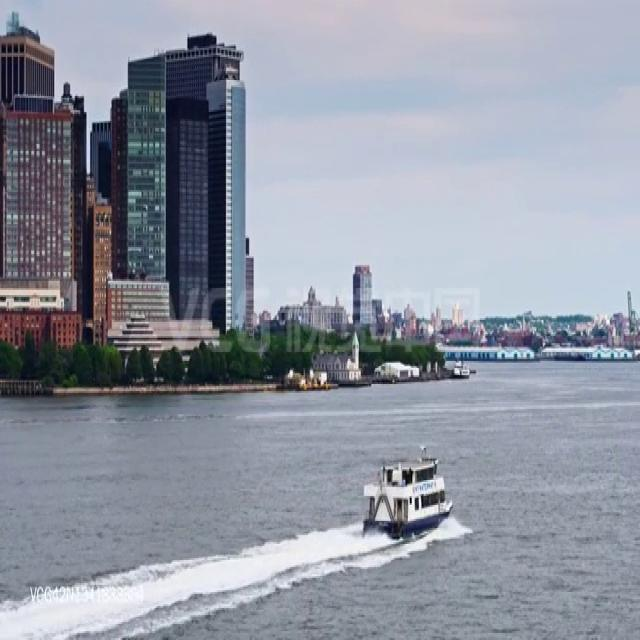houseboat: (360, 451, 448, 538)
